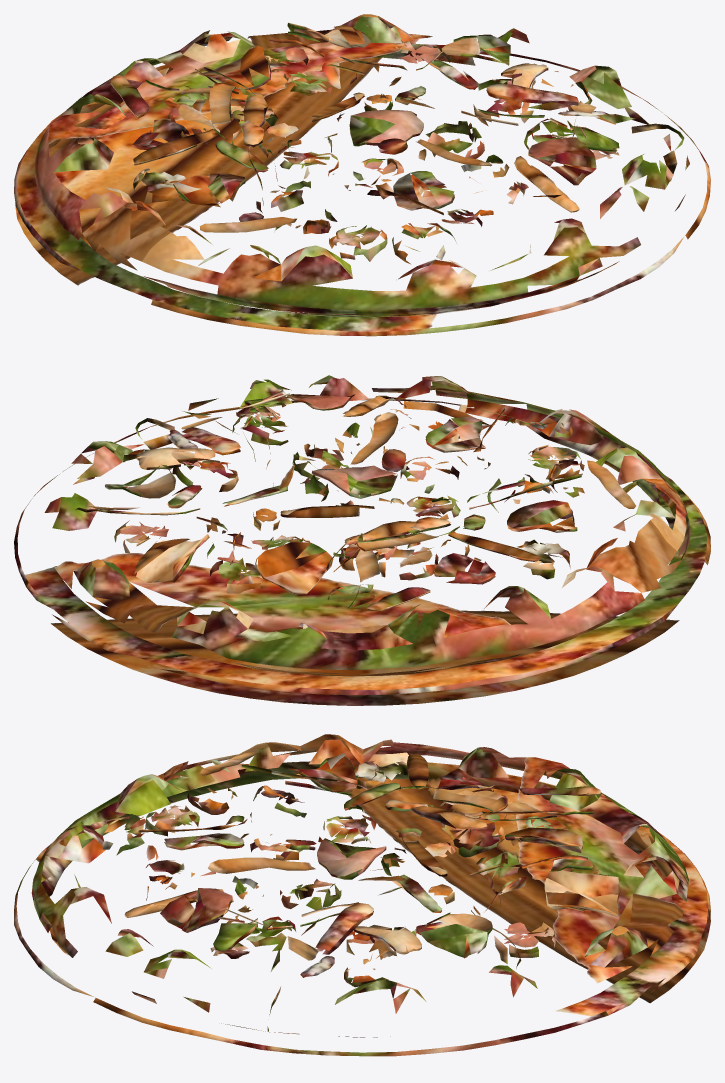
Rendered from pizza_toscana.fbx.
The picture shows the model from 3 angles, top to bottom: view 1: azimuth 30°, elevation 25°; view 2: azimuth 150°, elevation 25°; view 3: azimuth 270°, elevation 25°; orthographic projection.
Parts seen in each view (by area): view 1: meshes[0]; view 2: meshes[0]; view 3: meshes[0].
Part boxes in pixels (x1,y1,x2,y2): meshes[0]: (14, 14, 710, 336); meshes[0]: (14, 375, 710, 705); meshes[0]: (14, 734, 710, 1056).
Size of the model in its own units: 99.8 by 13.09 by 99.8.
